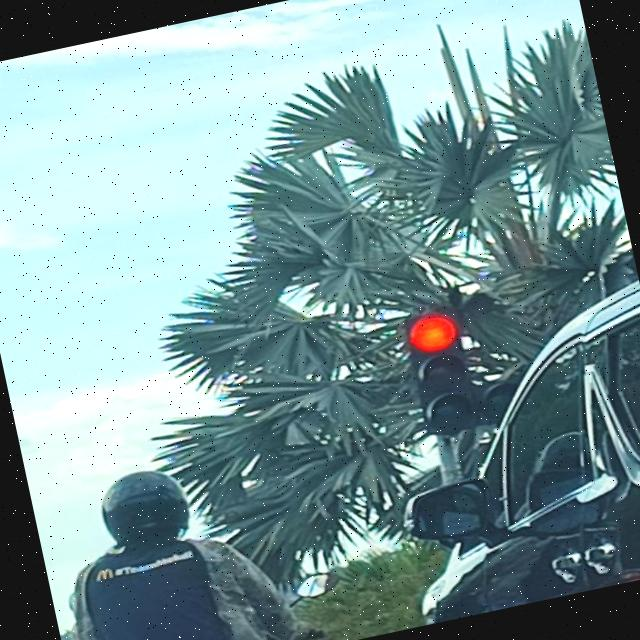red_light: (402, 306, 480, 438)
